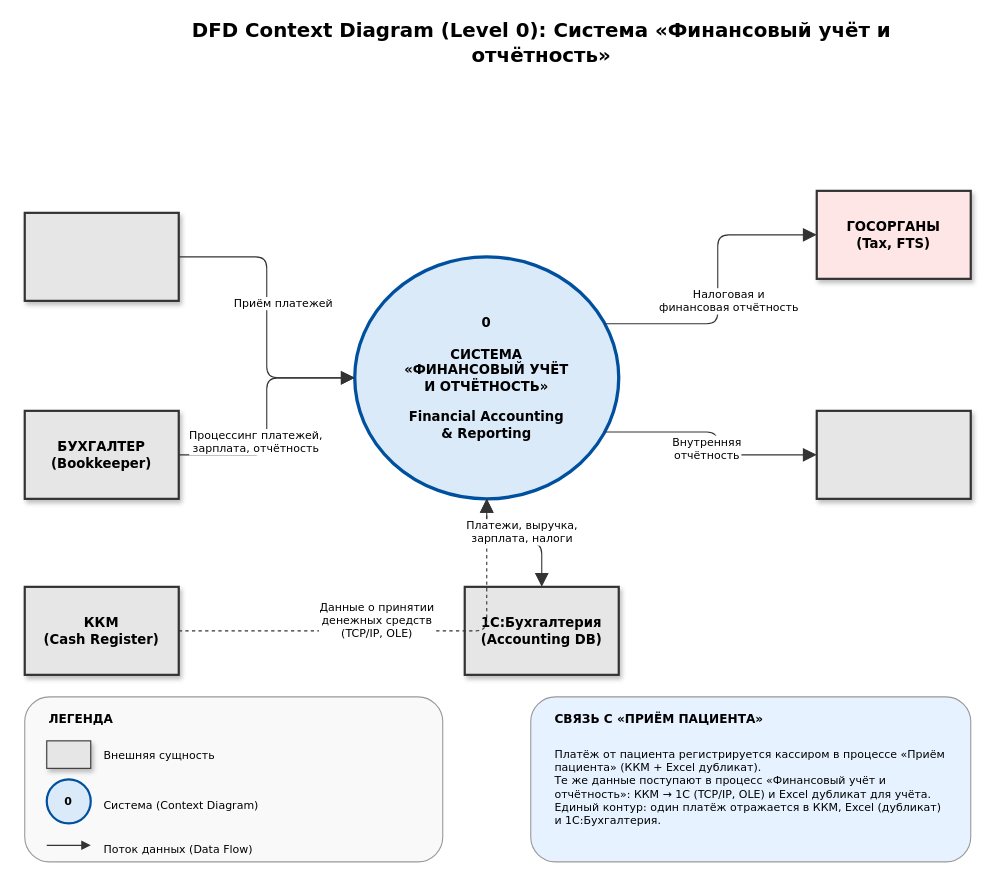
Image size: 997x881. Some labels were removed from this diagram. Each missing label, with the centre of its shape:
Ext: the point at 69,755
КАССИР (Cashier): the point at 102,258
РУКОВОДСТВО (Management): the point at 894,456
